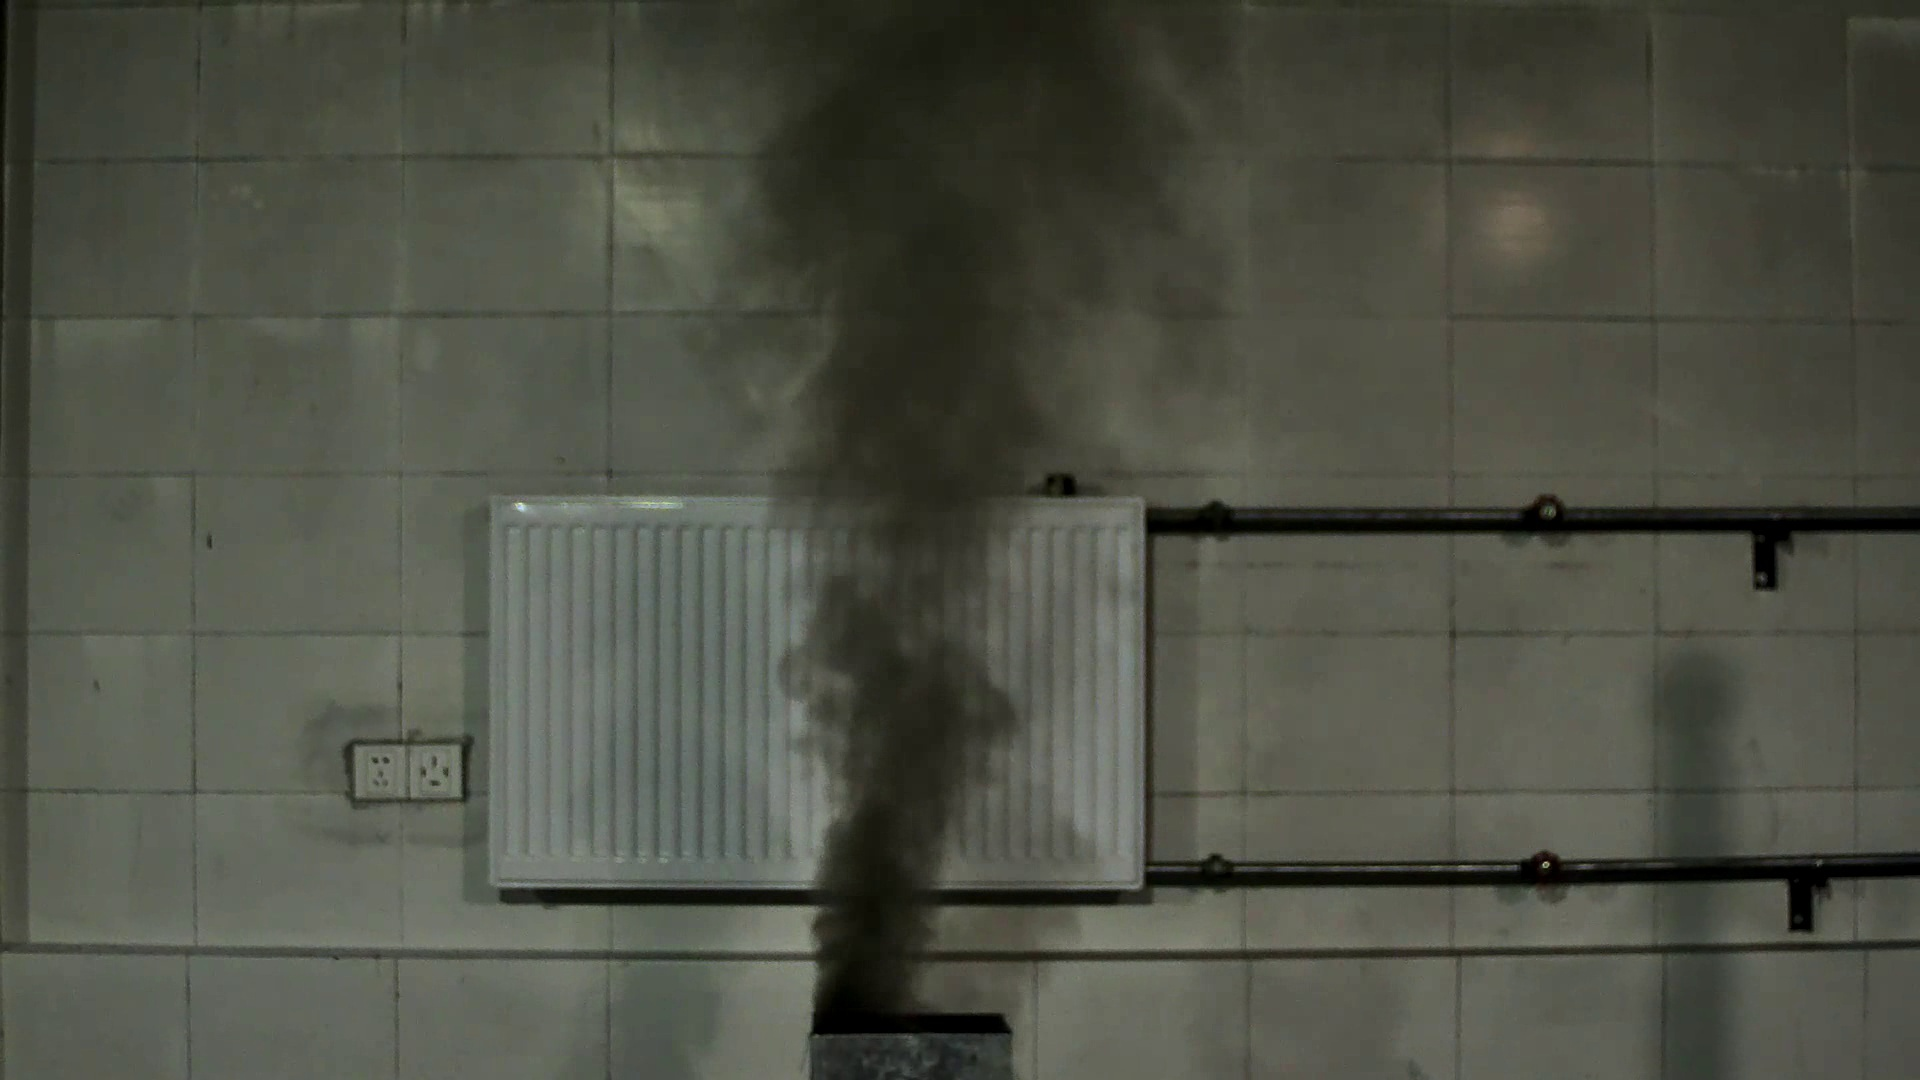smoke: (690, 18, 1203, 1009)
